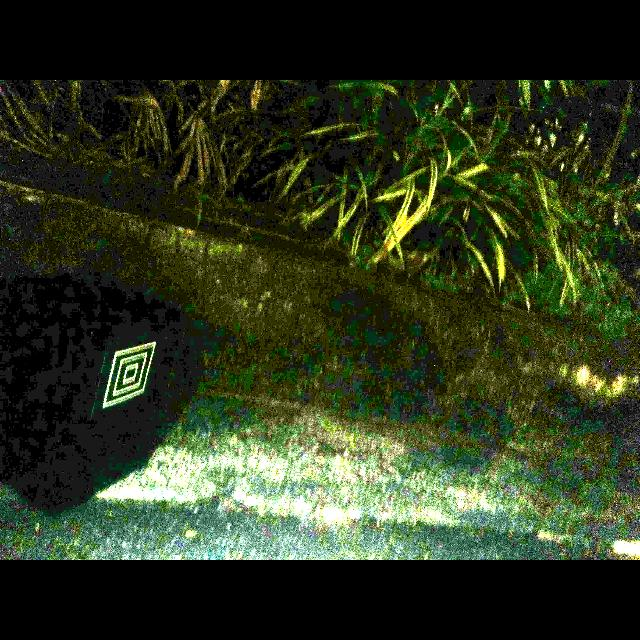BULLSEYE: (103, 342, 155, 408)
